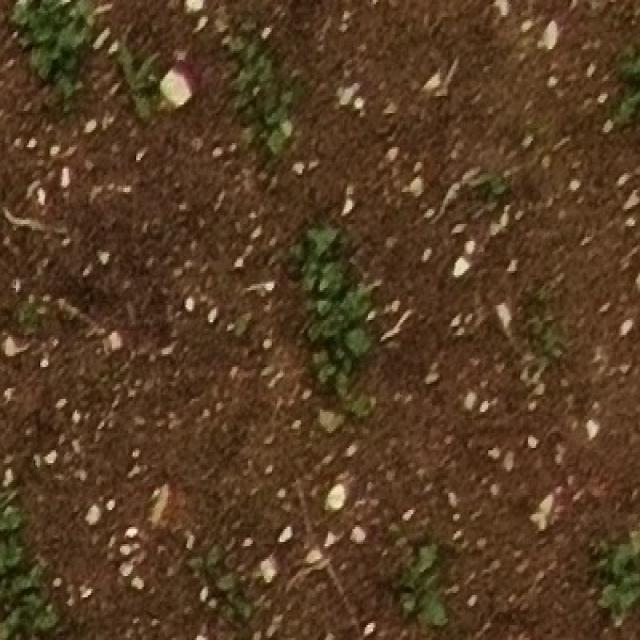cirse: (118, 42, 179, 128), (115, 39, 177, 123), (116, 40, 177, 120)
